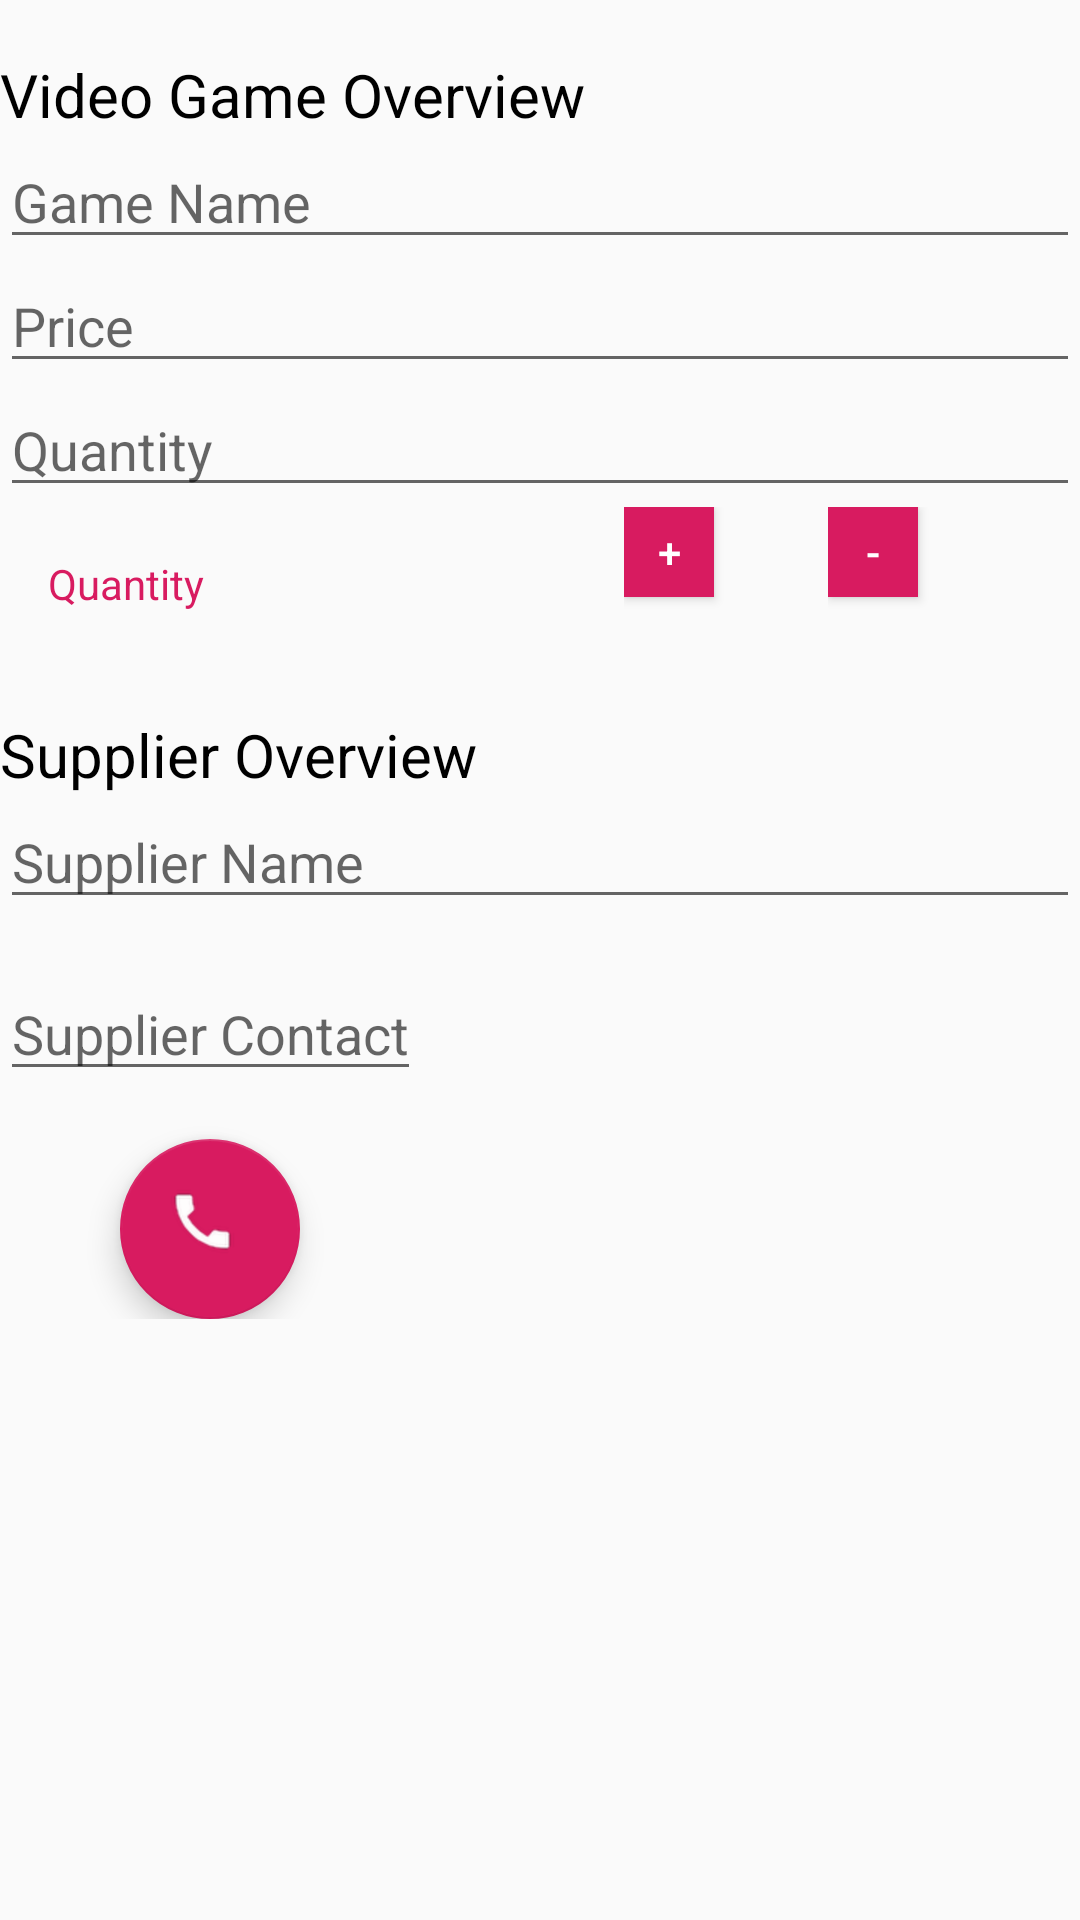

Where icons sit on this 1080 × 1920 app screen, as [left=x1, top=y1, right=x2, bottom=y2]:
call: [left=120, top=1139, right=300, bottom=1319]
